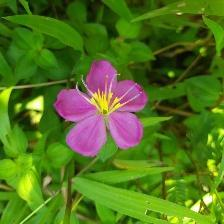malabar melastome: (54, 59, 155, 158)
